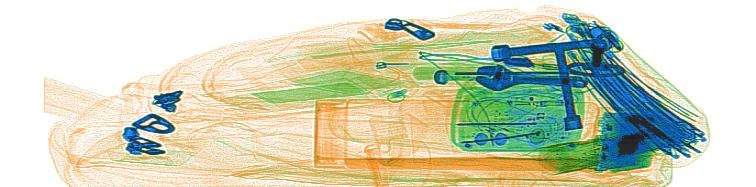battery: (606, 126, 678, 160)
